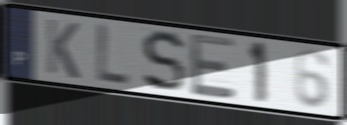1: (246, 39, 271, 105)
6: (293, 47, 332, 112)
E: (188, 30, 238, 101)
K: (44, 16, 81, 82)
L: (95, 21, 132, 89)
S: (140, 28, 187, 94)
